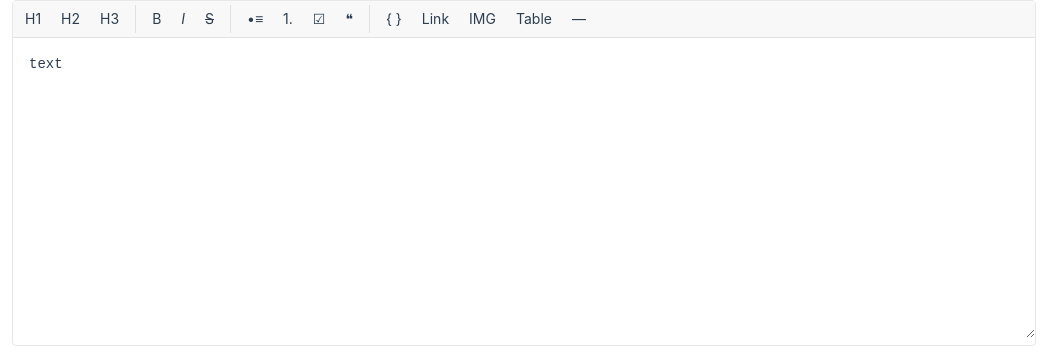
Test case: source editor (05-3) › 粗体按钮在光标处插入 Markdown 标记
Click the button with test id "tb-bold".
click(157, 19)  # box [144,5,169,33]
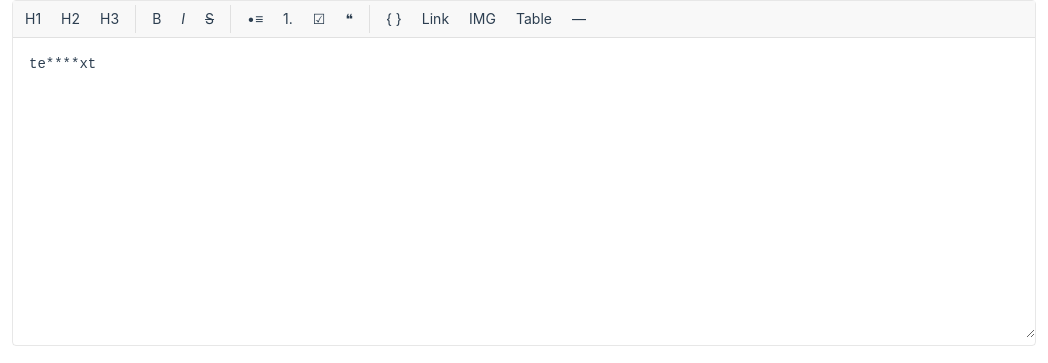
Result: the text box with test id "md-source" holds "te****xt"
